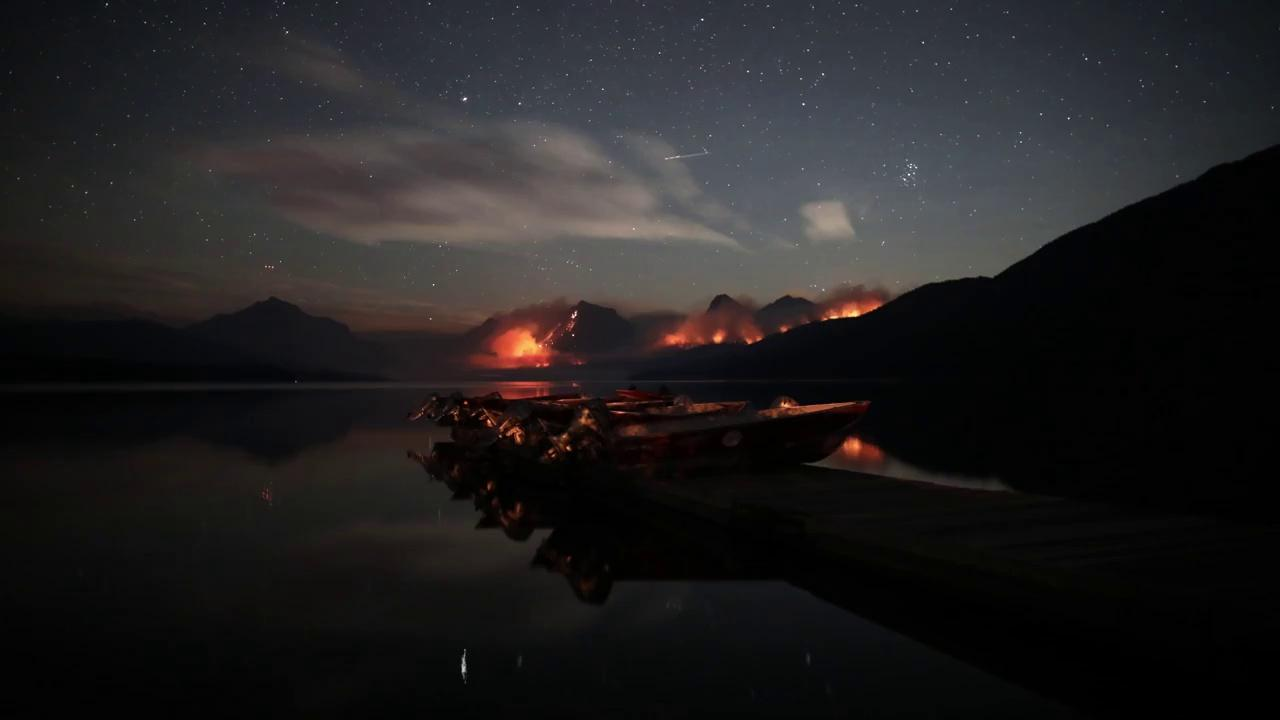fire: (498, 330, 546, 370)
